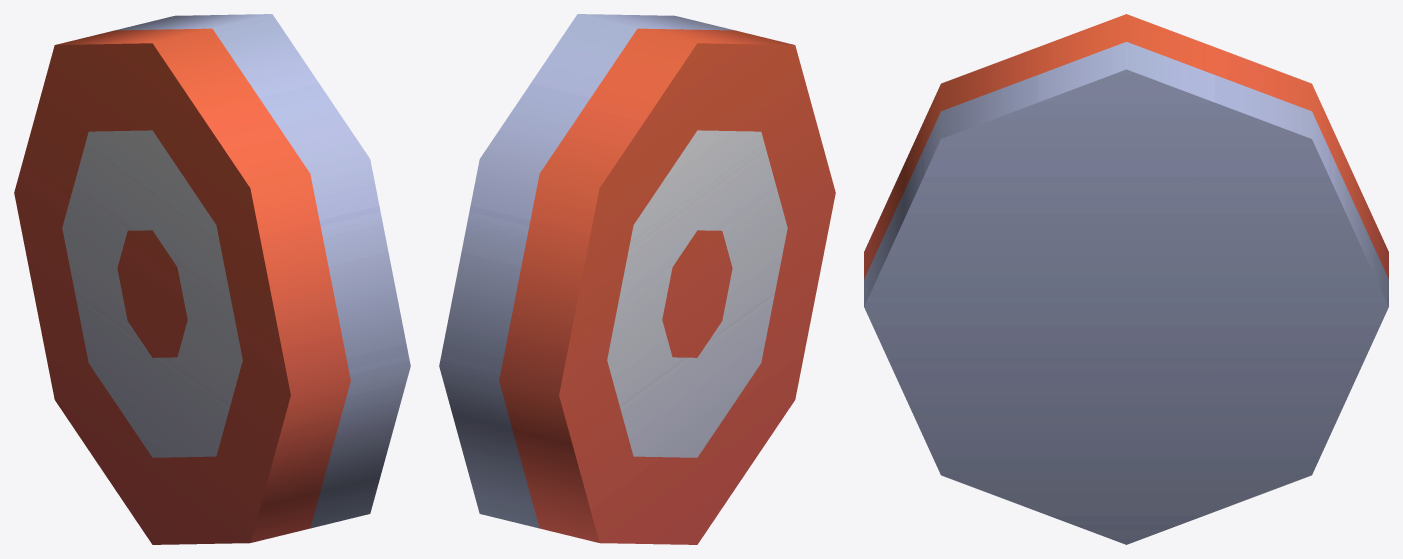
File: target-a-round.glb
3 renders of one model, left to right at view 1: azimuth 30°, elevation 25°; view 2: azimuth 150°, elevation 25°; view 3: azimuth 270°, elevation 25°, orthographic. The views are drawn at different scales.
Parts seen in each view (by area): view 1: target-a-round; view 2: target-a-round; view 3: target-a-round.
Boxes of the visible parts, bbox=[...] form: target-a-round: bbox=[14, 14, 410, 544]; target-a-round: bbox=[439, 14, 835, 544]; target-a-round: bbox=[864, 14, 1388, 544].
Size of the model in its own units: 0.124 by 0.496 by 0.496.
1 material, 1 textured.
